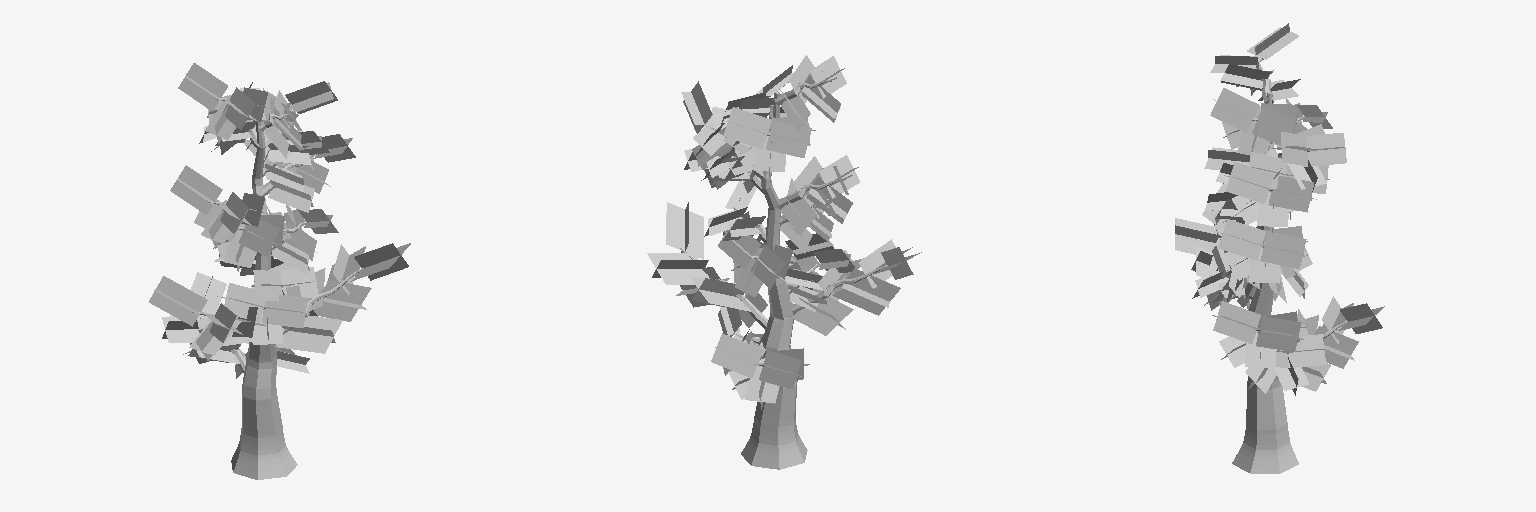
The model's file is TreeLarge.obj.
3 renders of one model, left to right at view 1: azimuth 30°, elevation 25°; view 2: azimuth 150°, elevation 25°; view 3: azimuth 270°, elevation 25°, orthographic.
Parts seen in each view (by area): view 1: TreeLargest; view 2: TreeLargest; view 3: TreeLargest.
Boxes of the visible parts, box(x1,y1,x2,y2) form: TreeLargest: box(149, 63, 410, 479); TreeLargest: box(647, 55, 921, 469); TreeLargest: box(1175, 23, 1384, 473).
Bounding box in the file's own units: 14.16 × 21.46 × 10.03.